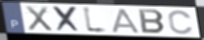A: (111, 8, 141, 34)
B: (138, 8, 167, 35)
C: (167, 9, 195, 36)
L: (82, 5, 111, 35)
X: (51, 5, 83, 33), (24, 5, 55, 33)
